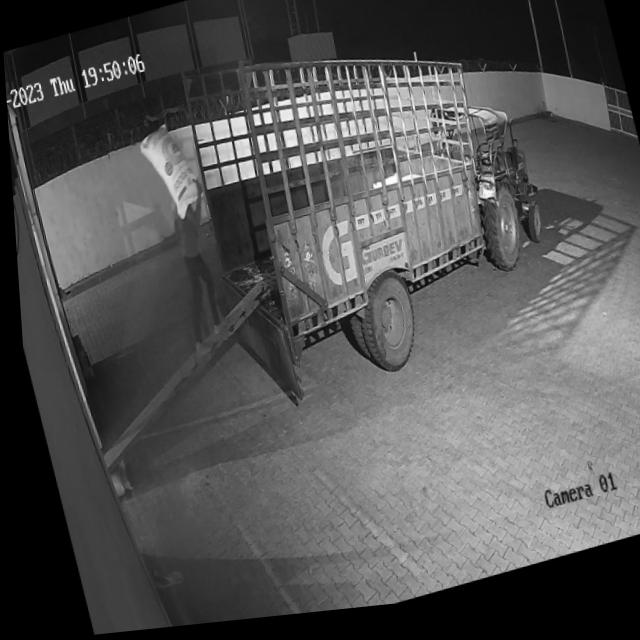sack: (132, 118, 202, 231)
